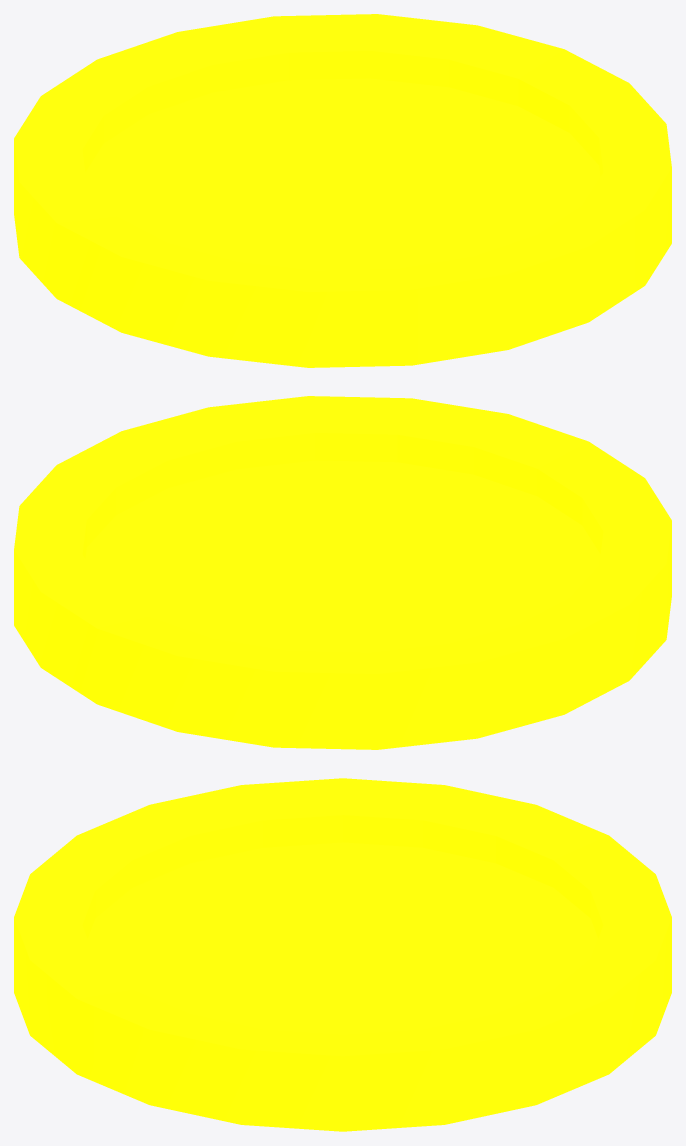
Rendered from Coin.fbx.
3 views of the same model, one above another, from view 1: azimuth 30°, elevation 25°; view 2: azimuth 150°, elevation 25°; view 3: azimuth 270°, elevation 25° (orthographic).
Parts seen in each view (by area): view 1: pCylinder1; view 2: pCylinder1; view 3: pCylinder1.
Part boxes in pixels (bbox=[...]): pCylinder1: bbox=[14, 14, 671, 367]; pCylinder1: bbox=[14, 396, 671, 749]; pCylinder1: bbox=[14, 778, 671, 1131].
Bounding box in the file's own units: 13.89 × 1.76 × 13.89.
